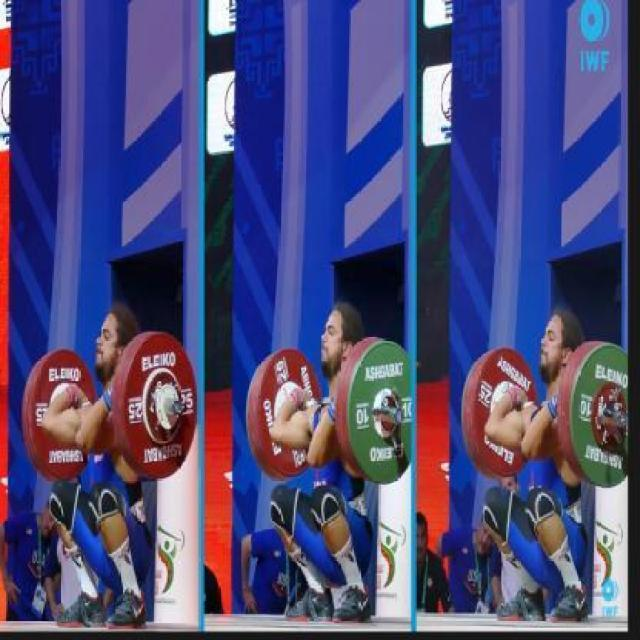barbell: (122, 328, 200, 485), (565, 343, 630, 494), (347, 337, 408, 486)
